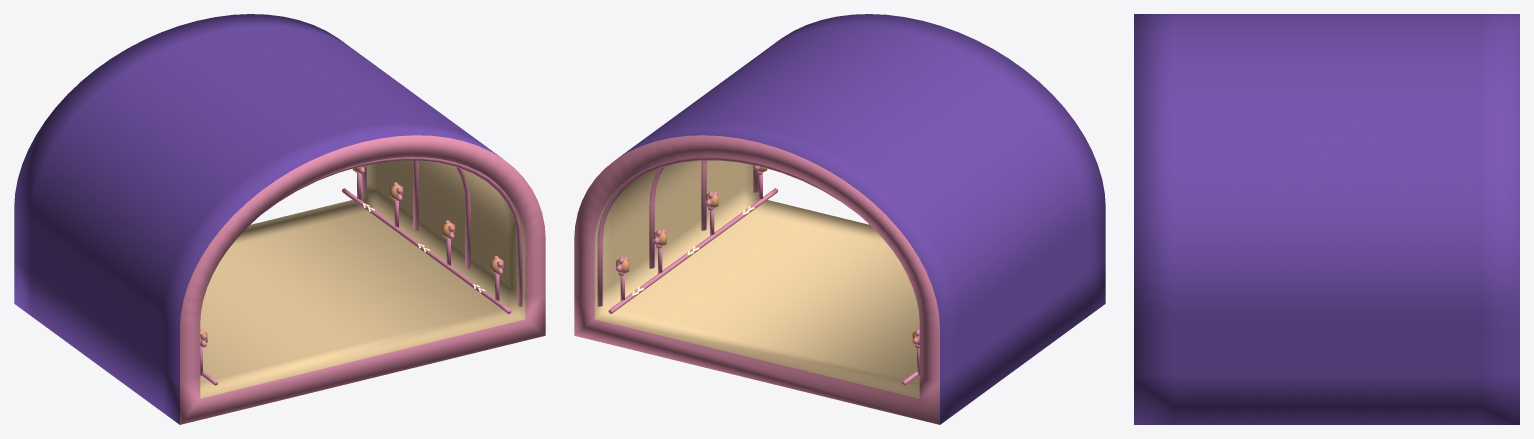
File: straight_12m_lod1.glb
The picture shows the model from 3 angles, left to right: view 1: azimuth 30°, elevation 25°; view 2: azimuth 150°, elevation 25°; view 3: azimuth 270°, elevation 25°; orthographic projection. The views are drawn at different scales.
Visible parts, largest first — view 1: TunnelGeometry.001; view 2: TunnelGeometry.001; view 3: TunnelGeometry.001.
Boxes of the visible parts, box(x1,y1,x2,y2) form: TunnelGeometry.001: box(14, 14, 545, 424); TunnelGeometry.001: box(574, 14, 1105, 424); TunnelGeometry.001: box(1134, 14, 1519, 424).
Size of the model in its own units: 15.3 by 9.52 by 12.
Materials: 5 (2 with a texture image).
